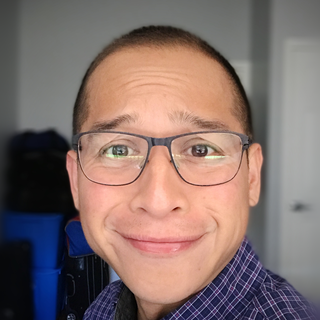eye: (180, 141, 225, 164), (94, 142, 139, 164)
